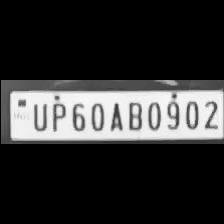0: (86, 99, 106, 131), (143, 98, 161, 130), (182, 98, 200, 130)
2: (200, 97, 220, 131)
6: (66, 100, 86, 132)
9: (163, 98, 181, 130)
A: (106, 99, 124, 131)
B: (123, 98, 143, 132)
P: (46, 100, 66, 132)
U: (27, 99, 47, 131)
